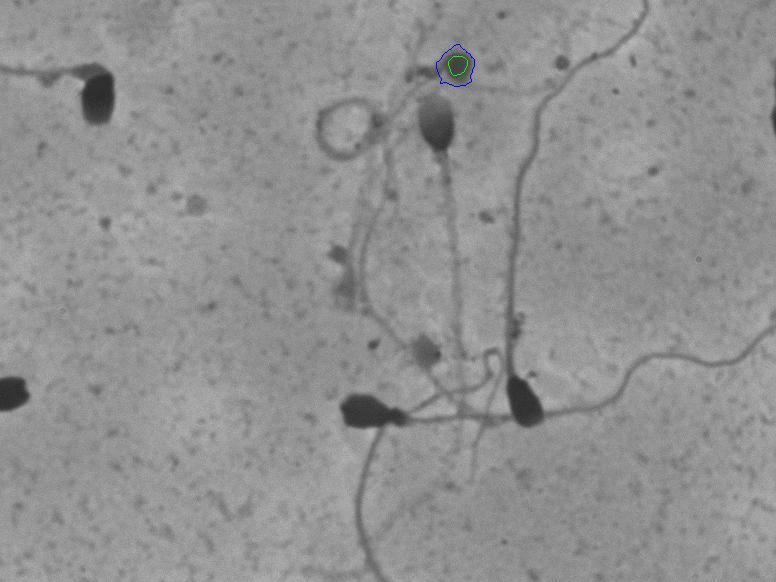Abnormal: (497, 52, 586, 444), (10, 25, 162, 150), (326, 358, 474, 443)
Normal: (409, 82, 477, 329)
